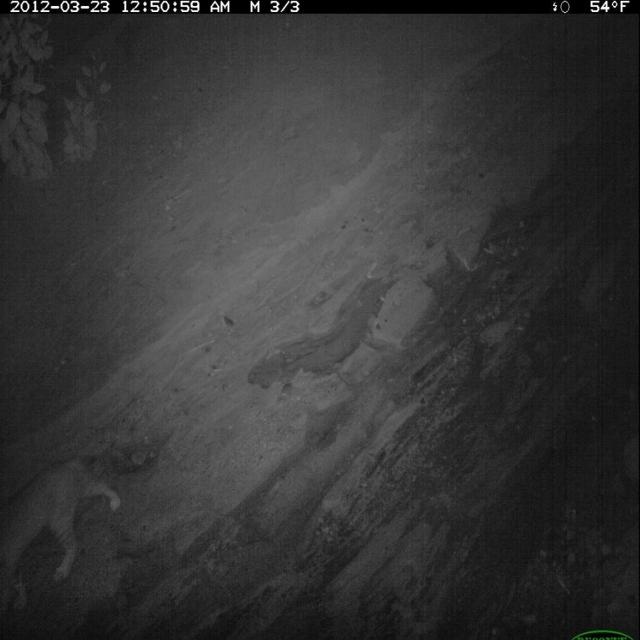bobcat: (1, 446, 126, 620)
